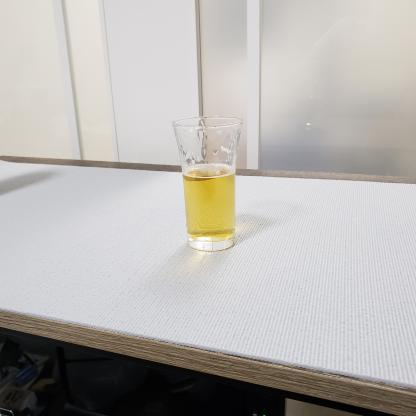glass: (168, 103, 277, 270)
